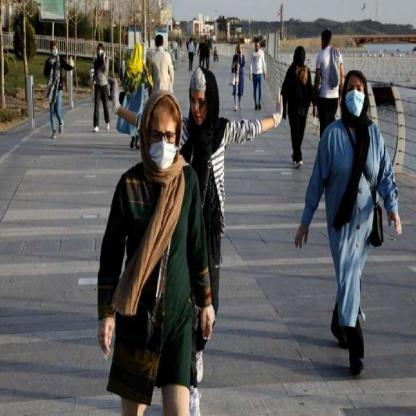Not_Wearing_Mask: (191, 82, 210, 122)
Wearing_Mask: (145, 110, 181, 178), (345, 77, 369, 120), (50, 40, 62, 62), (95, 42, 107, 61)
